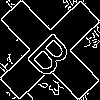B: (25, 25, 81, 80)
